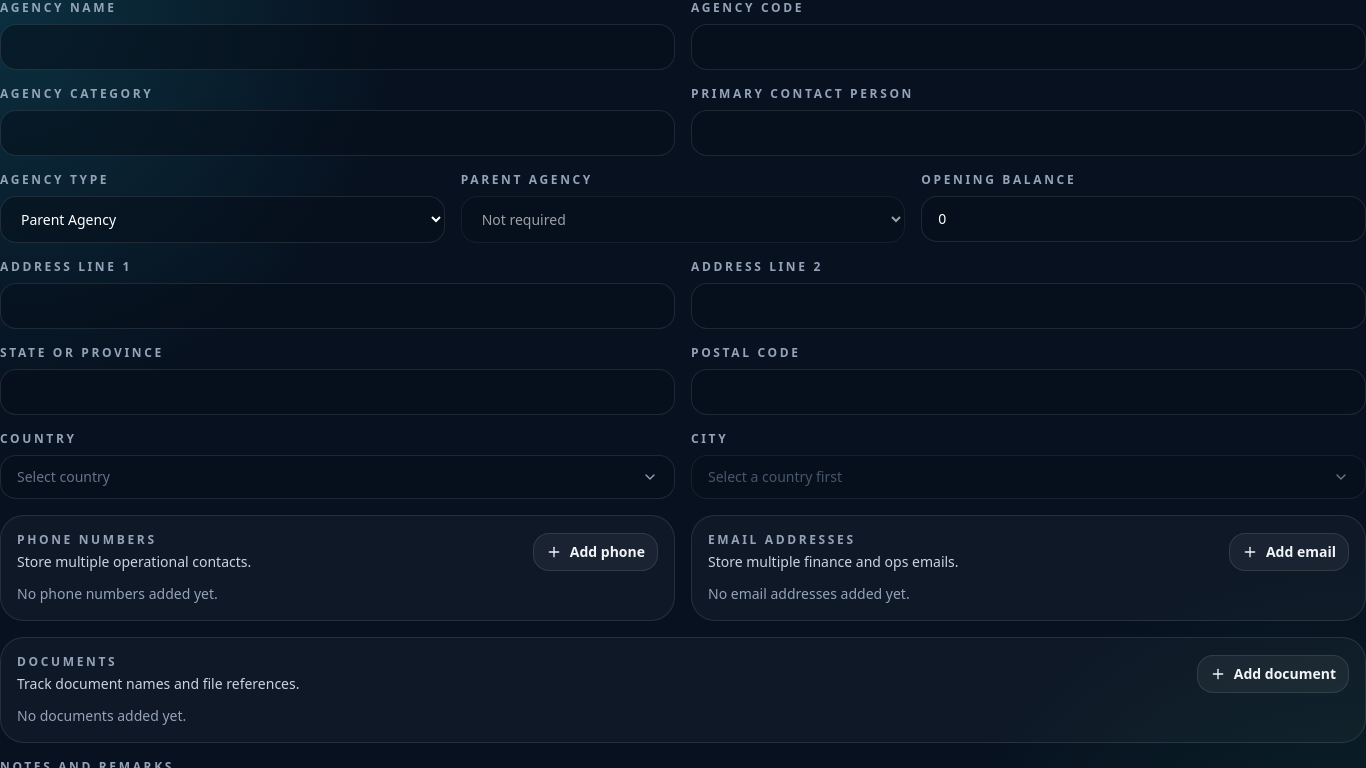
Test case: AgencyForm › clears the selected city when the country changes
The image size is (1366, 768).
Step 1. Click the button "Select country" → (63, 476), box [0,455,675,499]
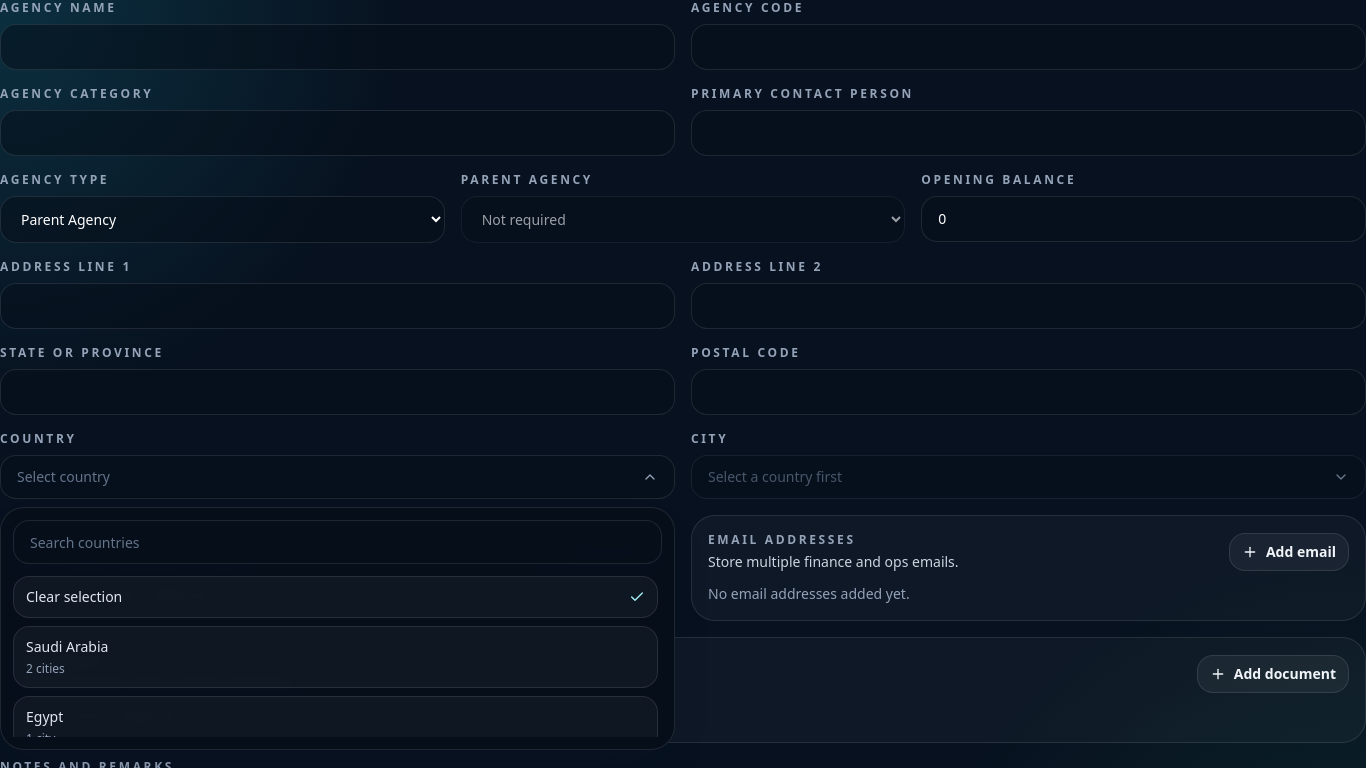
Step 2. Click the button "Saudi Arabia 2 cities" → (67, 646), box [13,626,658,688]
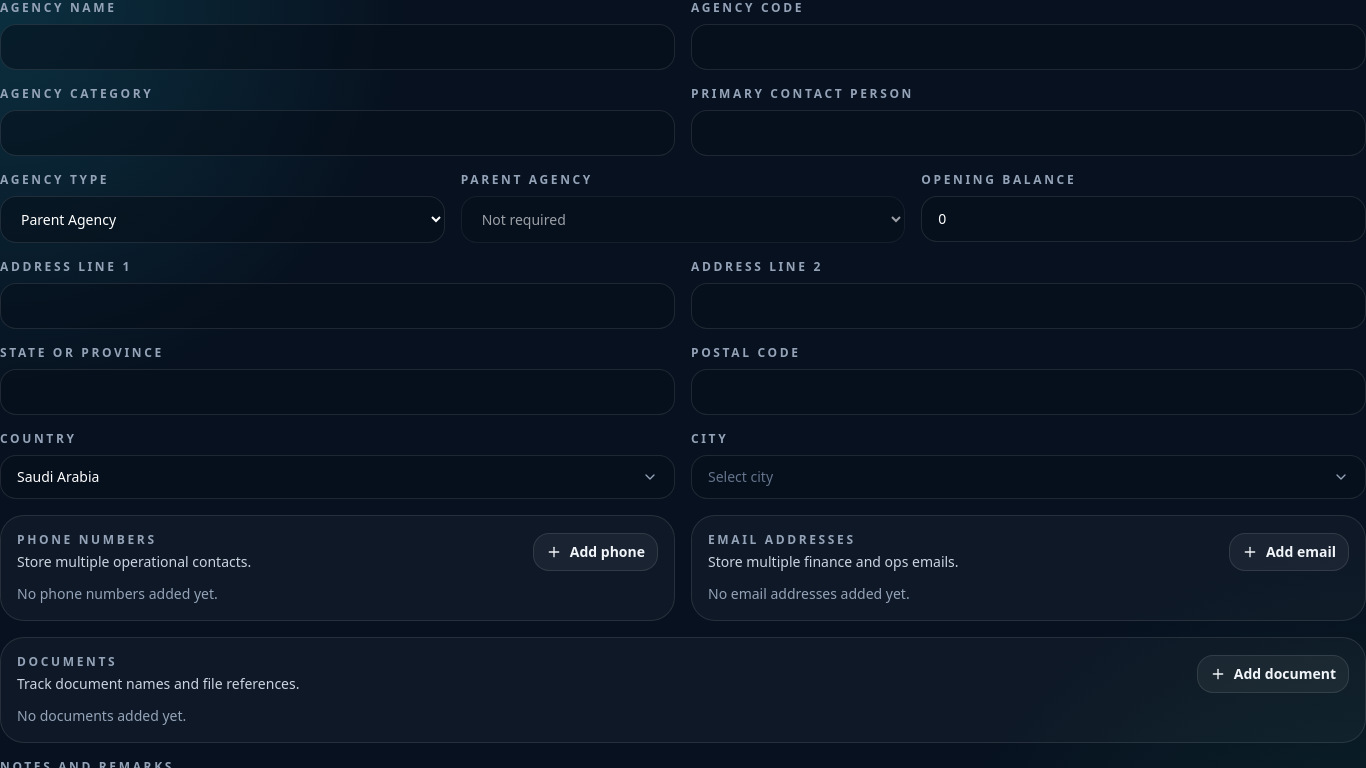
Step 3. Click the button "Select city" → (741, 476), box [691,455,1365,499]
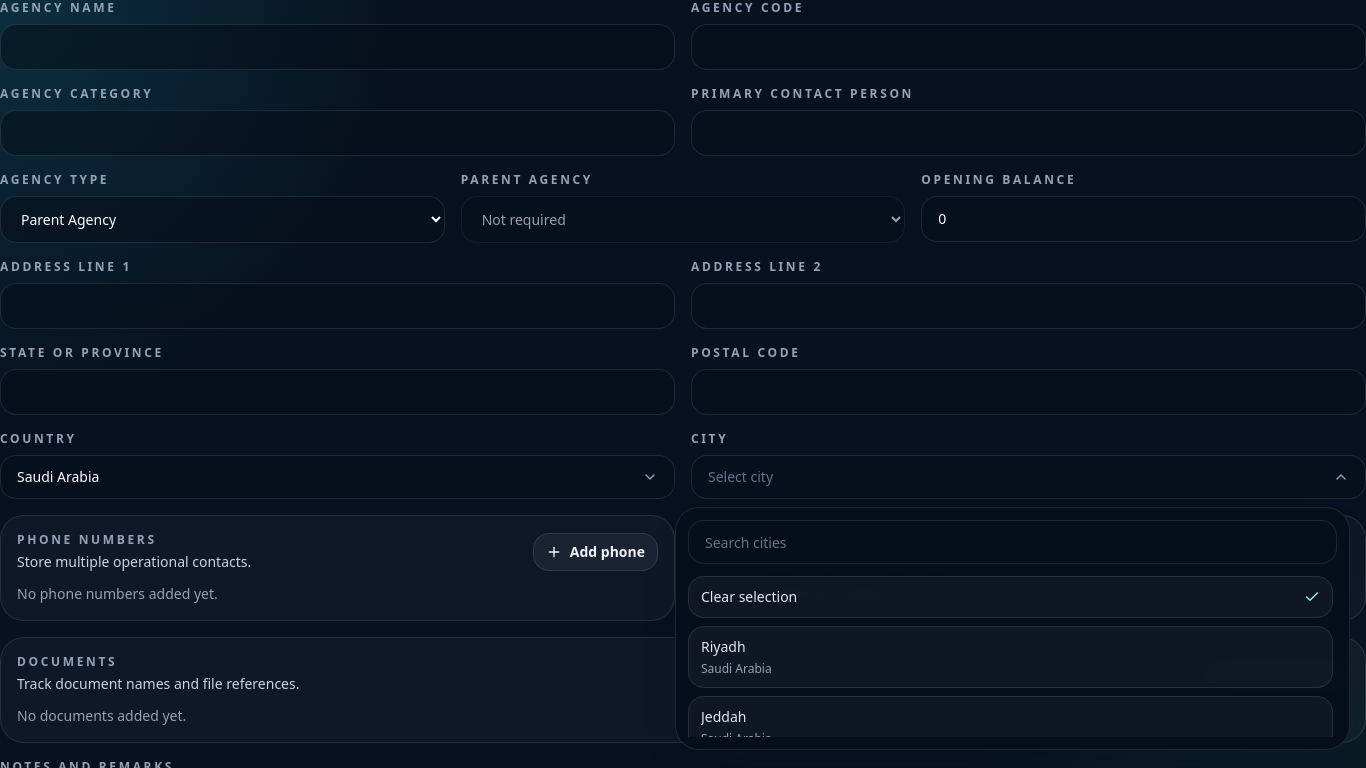
Step 4. Click the button "Riyadh Saudi Arabia" → (723, 646), box [688,626,1333,688]
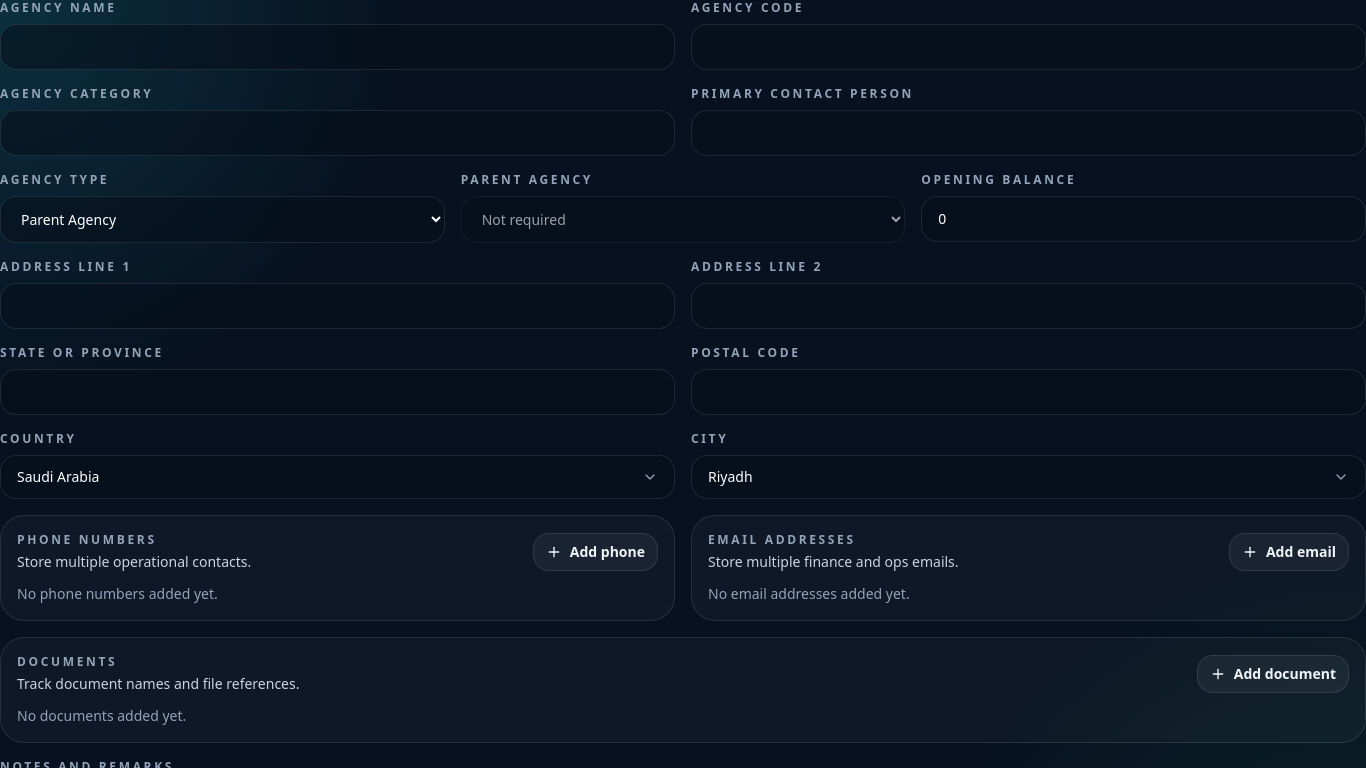
Expected: the button named "city" reads "Riyadh", [691,455,1365,499]
Step 5. Click the button named "country" → (58, 476), box [0,455,675,499]
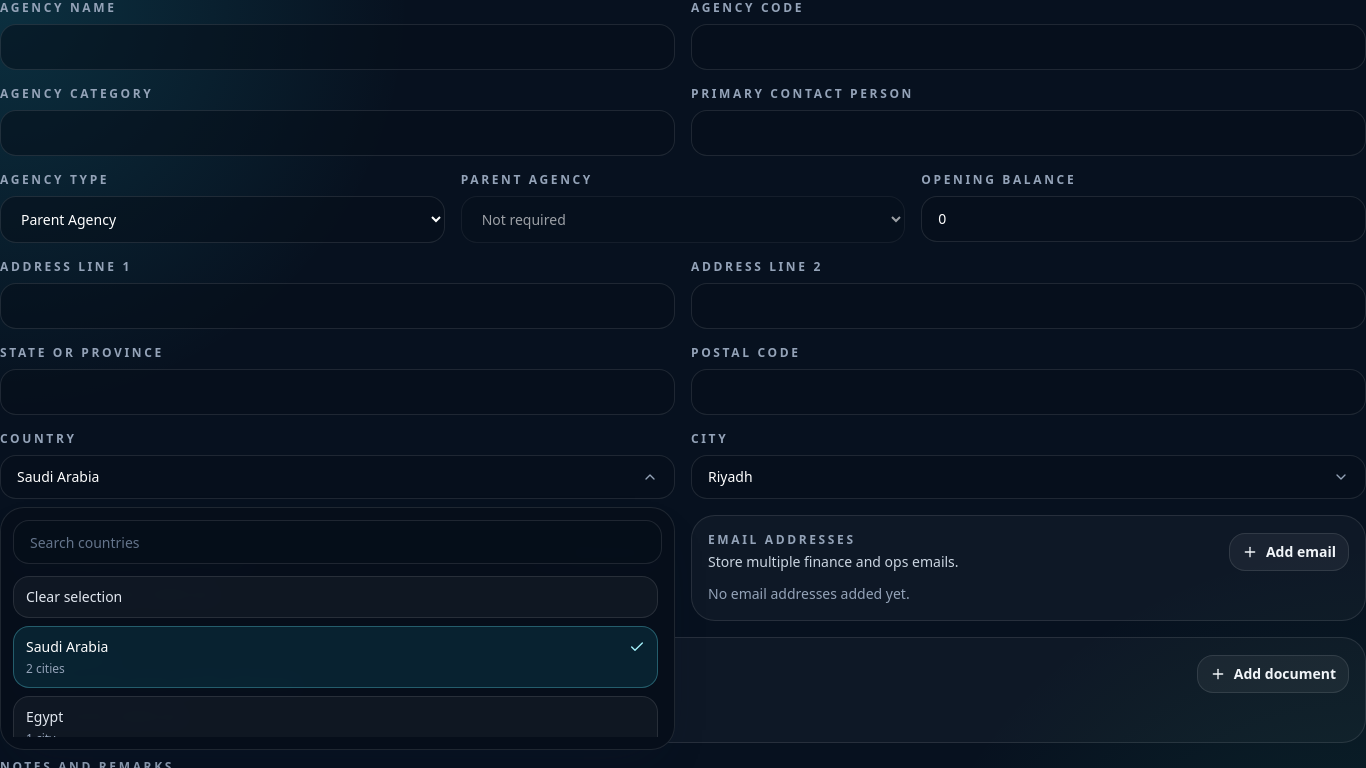
Step 6. Click the button "Egypt 1 city" → (45, 716), box [13,696,658,758]
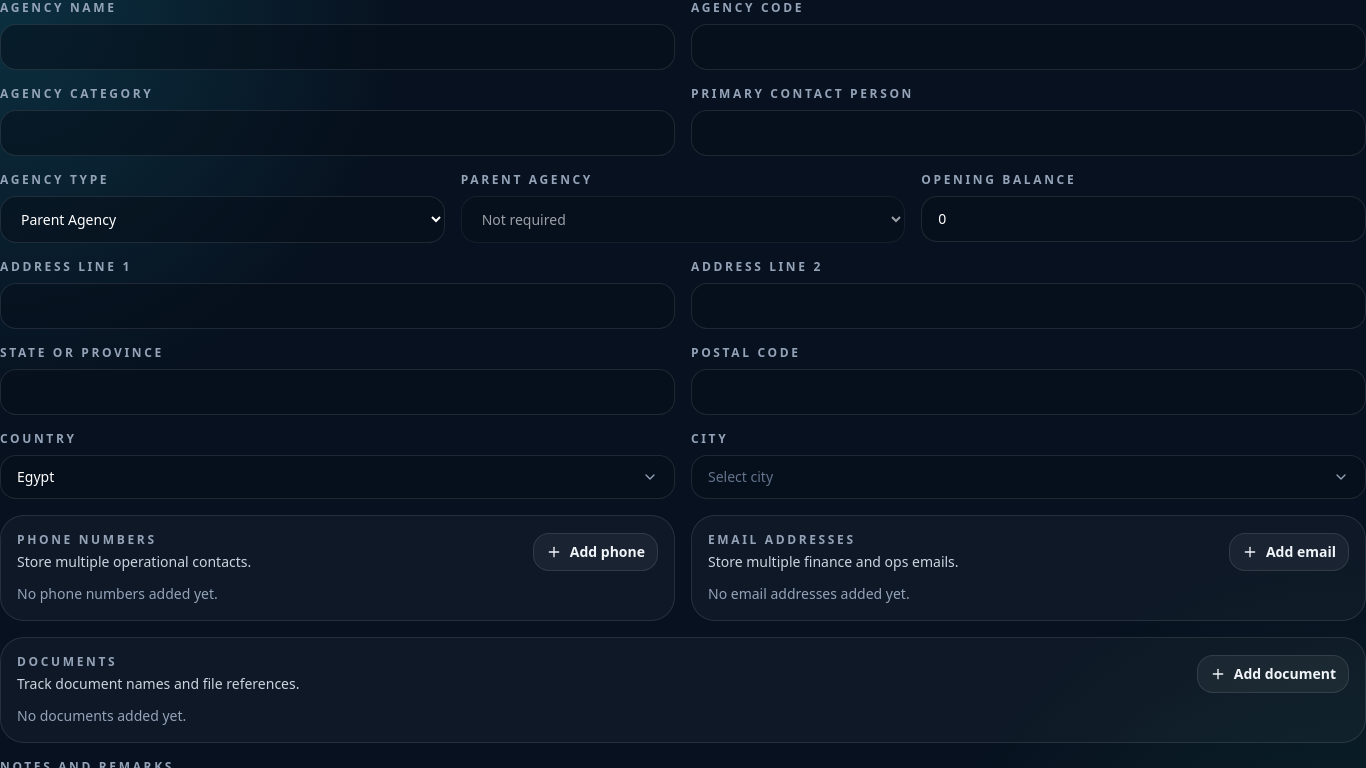
Expected: the button "Select city" is shown, [691,455,1365,499]
